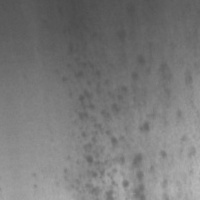pitted_surface: (55, 33, 199, 199)
